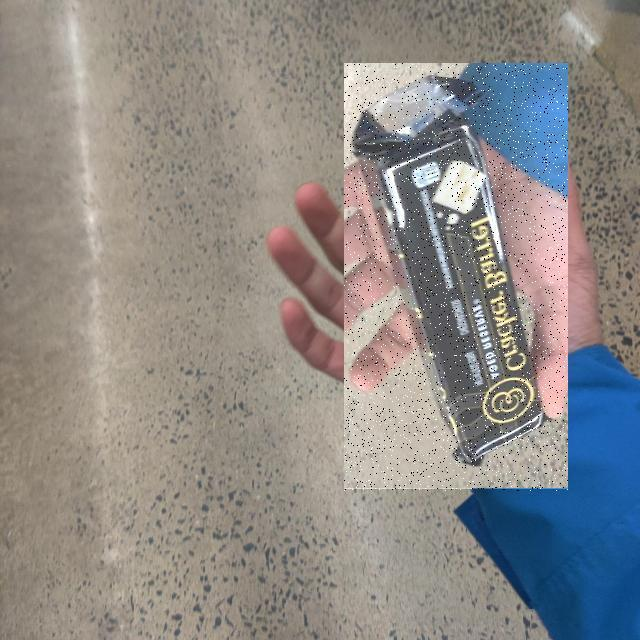Butter: (344, 64, 568, 492)
